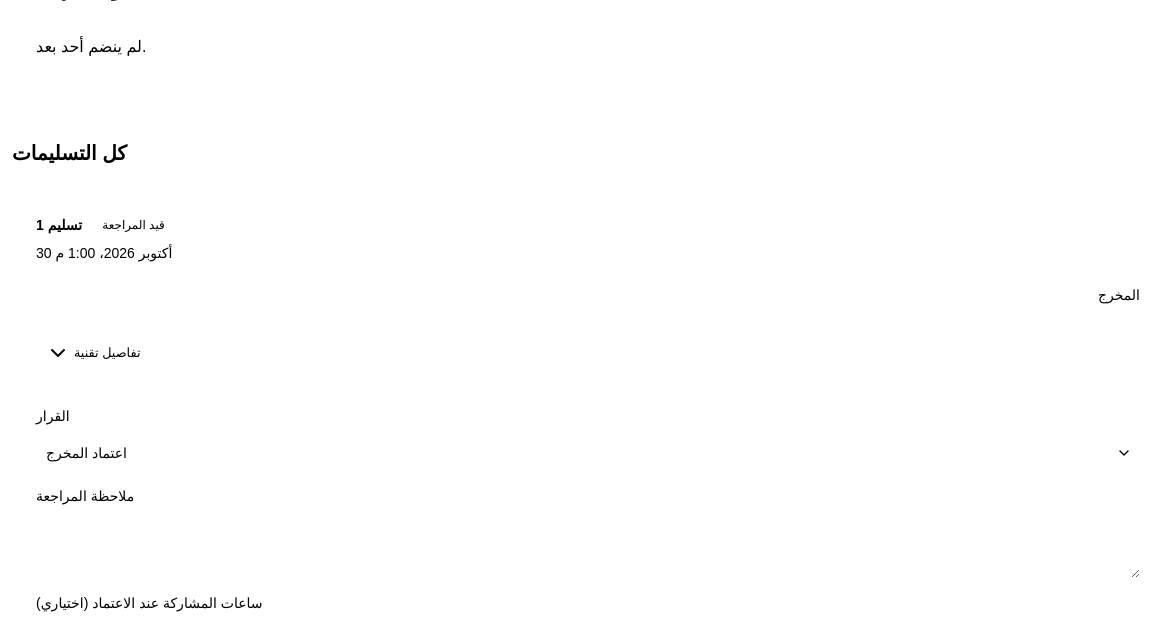
Test: keeps pinned revision metadata collapsed for reviewers
(page scrolled)
Expected: the text "نسخة المهمة" is not shown
Click the button "تفاصيل تقنية" at {"x": 93, "y": 353}, box [36,335,150,371]
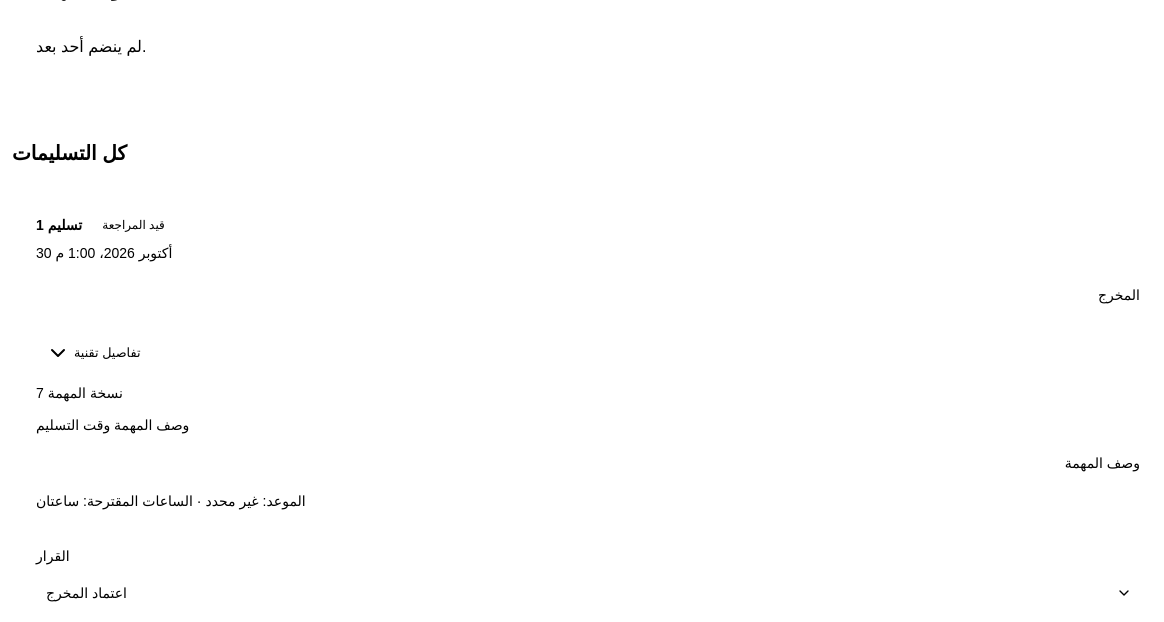
Expected: the text "نسخة المهمة 7" is shown, [36,385,123,401]
